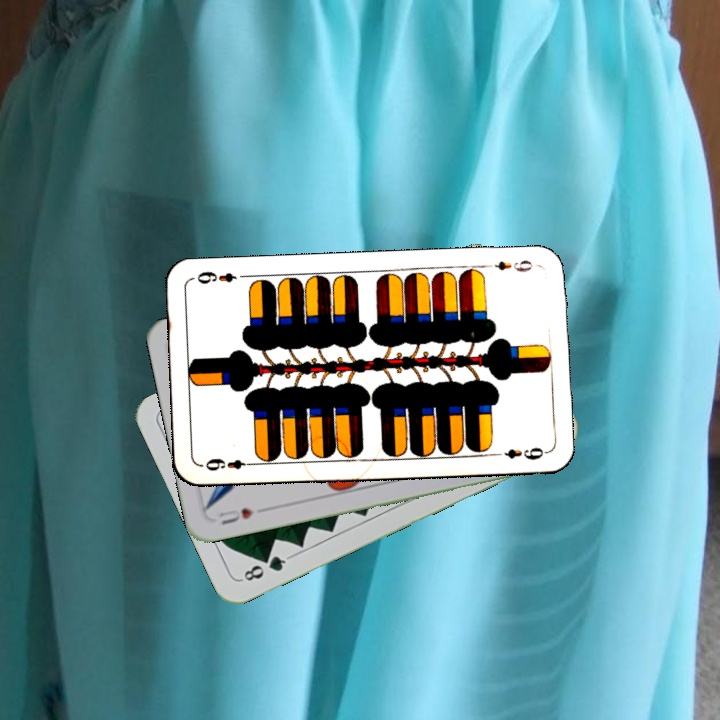E9: (201, 454, 257, 474), (491, 256, 536, 275)
G8: (237, 551, 293, 584)
HU: (214, 504, 256, 528)
